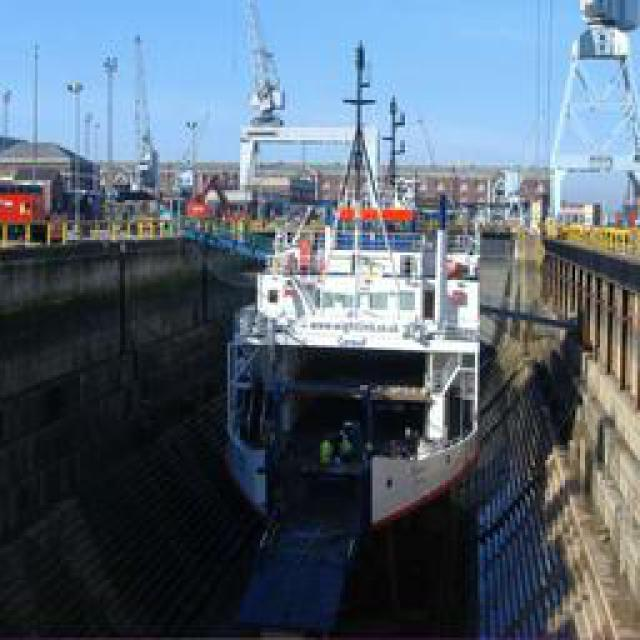Ship: (221, 51, 484, 604)
